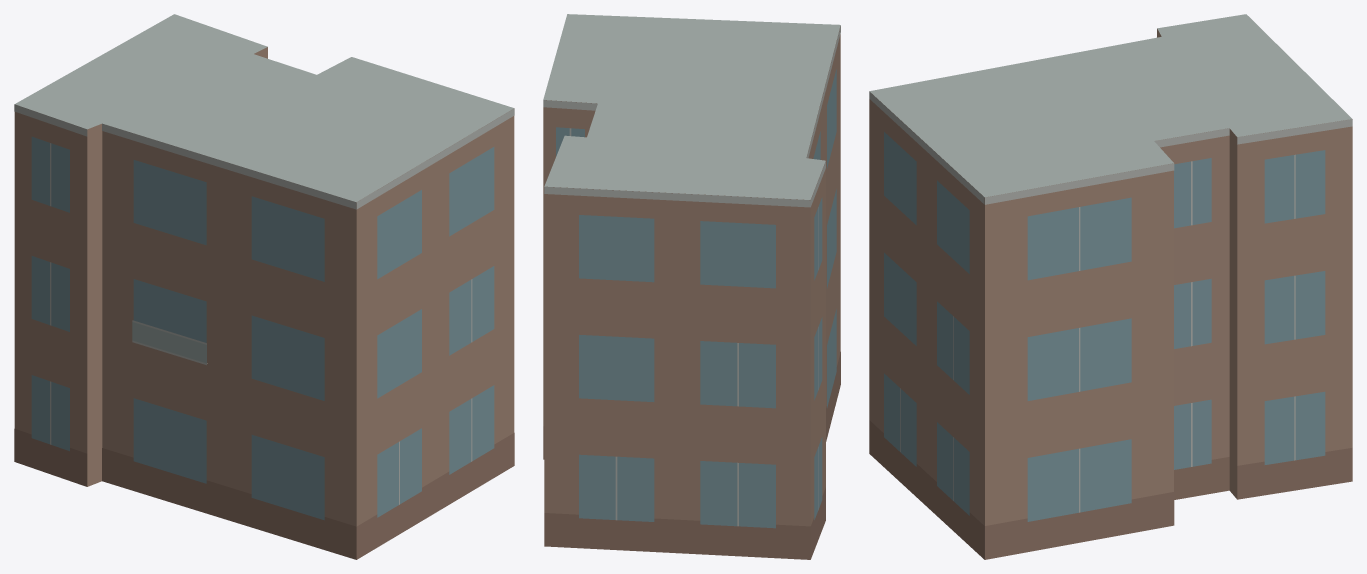
File: survey-upis-32496893.glb
The picture shows the model from 3 angles, left to right: view 1: azimuth 30°, elevation 25°; view 2: azimuth 150°, elevation 25°; view 3: azimuth 270°, elevation 25°; orthographic projection.
Parts seen in each view (by area): view 1: survey-upis-32496893.tmp; view 2: survey-upis-32496893.tmp; view 3: survey-upis-32496893.tmp.
Boxes of the visible parts, x1,y1,x2,y2 form: survey-upis-32496893.tmp: (14, 14, 514, 559); survey-upis-32496893.tmp: (543, 14, 840, 559); survey-upis-32496893.tmp: (869, 14, 1352, 559).
Bounding box in the file's own units: 12.93 × 11.9 × 14.39.
